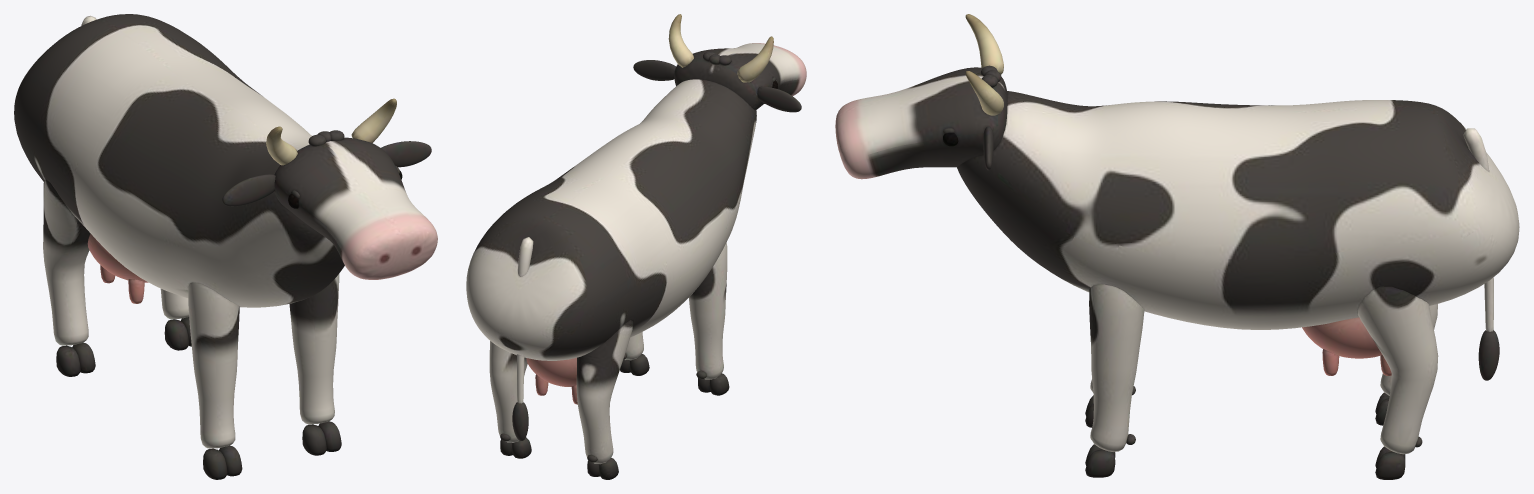
Rendered from animal_cow_hd.glb.
3 renders of one model, left to right at view 1: azimuth 30°, elevation 25°; view 2: azimuth 150°, elevation 25°; view 3: azimuth 270°, elevation 25°, orthographic. The views are drawn at different scales.
Visible parts, largest first — view 1: animal_cow_hd, head, leg0, leg2, leg1, leg3; view 2: animal_cow_hd, head, leg2, leg0, leg3, tail, leg1; view 3: animal_cow_hd, head, leg3, leg1, tail.
Boxes of the visible parts, bbox=[...] form: animal_cow_hd: bbox=[14, 14, 344, 307]; head: bbox=[222, 98, 437, 279]; leg0: bbox=[188, 282, 242, 479]; leg2: bbox=[43, 180, 95, 376]; leg1: bbox=[289, 274, 341, 455]; leg3: bbox=[160, 289, 191, 350]; animal_cow_hd: bbox=[466, 79, 756, 404]; head: bbox=[633, 14, 806, 112]; leg2: bbox=[576, 320, 633, 479]; leg0: bbox=[689, 243, 729, 395]; leg3: bbox=[489, 341, 531, 458]; tail: bbox=[512, 237, 533, 440]; leg1: bbox=[620, 332, 649, 375]; animal_cow_hd: bbox=[957, 91, 1519, 375]; head: bbox=[835, 14, 1007, 179]; leg3: bbox=[1357, 286, 1438, 479]; leg1: bbox=[1085, 284, 1144, 477]; tail: bbox=[1463, 128, 1499, 380].
Bounding box in the file's own units: 0.2773 × 0.5041 × 0.7711.
1 material, 1 textured.
